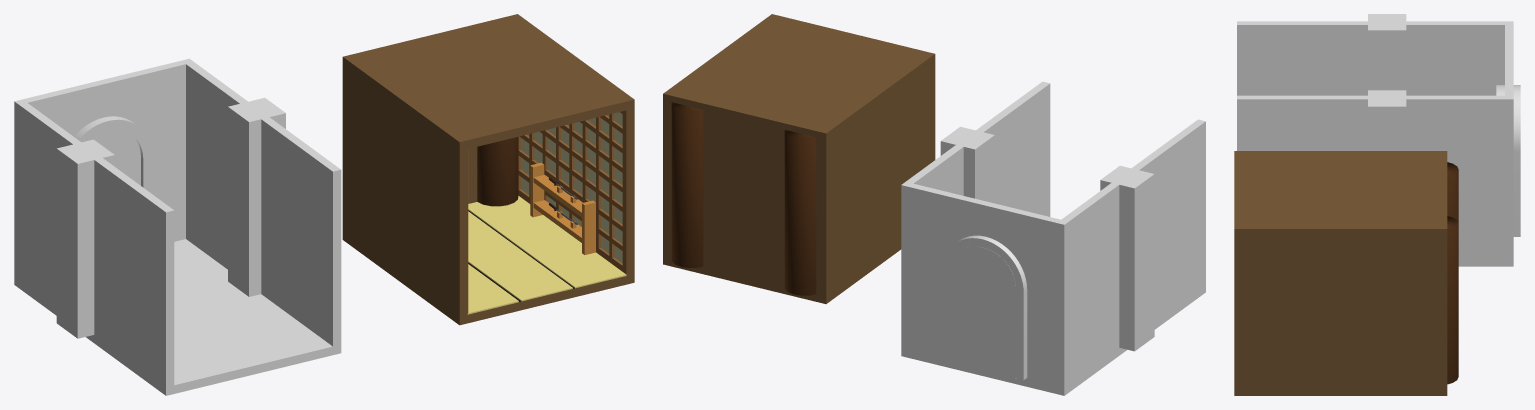
File: salaDungeonV2.glb
3 renders of one model, left to right at view 1: azimuth 30°, elevation 25°; view 2: azimuth 150°, elevation 25°; view 3: azimuth 270°, elevation 25°, orthographic. The views are drawn at different scales.
Parts seen in each view (by area): view 1: corridor, Cube.003, Cube.001, Cube.016, Cube.006, Cube.005, Plane.006, Cylinder, Cube.007, Cube, Cube.002, Cube.004; view 2: Cube.003, corridor, Cube.001, Cube.002, Cylinder.001, Cylinder, Cube; view 3: Cube.003, corridor, Cube.001, Cylinder, Cube, Cylinder.001.
Part boxes in pixels (x1=…): corridor: x1=14, y1=58, x2=341, y2=395; Cube.003: x1=342, y1=14, x2=634, y2=325; Cube.001: x1=56, y1=97, x2=285, y2=338; Cube.016: x1=468, y1=110, x2=626, y2=312; Cube.006: x1=468, y1=196, x2=626, y2=288; Cube.005: x1=468, y1=211, x2=572, y2=301; Plane.006: x1=521, y1=112, x2=622, y2=263; Cylinder: x1=477, y1=137, x2=518, y2=206; Cube.007: x1=530, y1=162, x2=595, y2=254; Cube: x1=74, y1=116, x2=152, y2=193; Cube.002: x1=90, y1=130, x2=140, y2=185; Cube.004: x1=467, y1=264, x2=518, y2=314; Cube.003: x1=663, y1=14, x2=935, y2=303; corridor: x1=901, y1=81, x2=1205, y2=395; Cube.001: x1=940, y1=126, x2=1154, y2=351; Cube.002: x1=949, y1=246, x2=1016, y2=379; Cylinder.001: x1=784, y1=130, x2=816, y2=295; Cylinder: x1=671, y1=102, x2=703, y2=267; Cube: x1=941, y1=235, x2=1027, y2=379; Cube.003: x1=1234, y1=151, x2=1447, y2=395; corridor: x1=1237, y1=21, x2=1513, y2=266; Cube.001: x1=1368, y1=14, x2=1406, y2=150; Cylinder: x1=1447, y1=216, x2=1458, y2=384; Cube: x1=1496, y1=85, x2=1520, y2=236; Cylinder.001: x1=1447, y1=162, x2=1458, y2=222.
Size of the model in its own units: 5.53 by 2.01 by 3.11.
